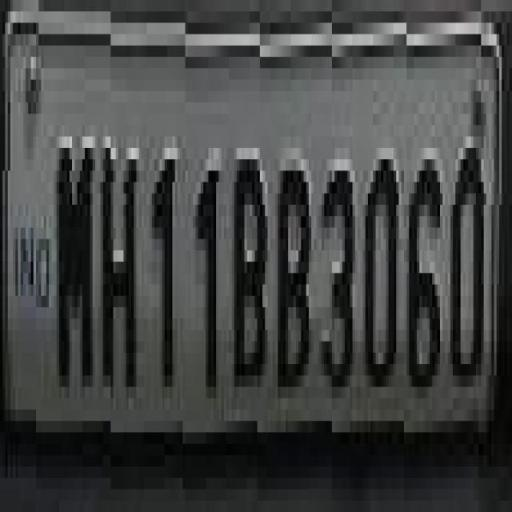number plate: (0, 23, 484, 489)
